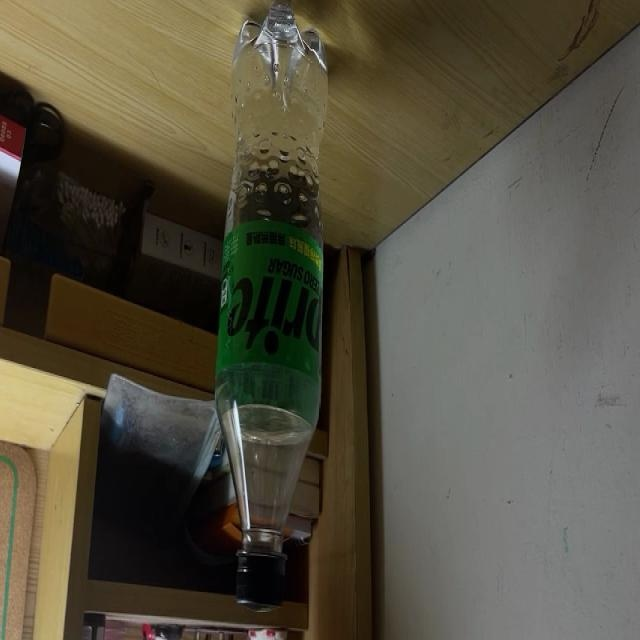Sprite: (214, 1, 330, 612)
